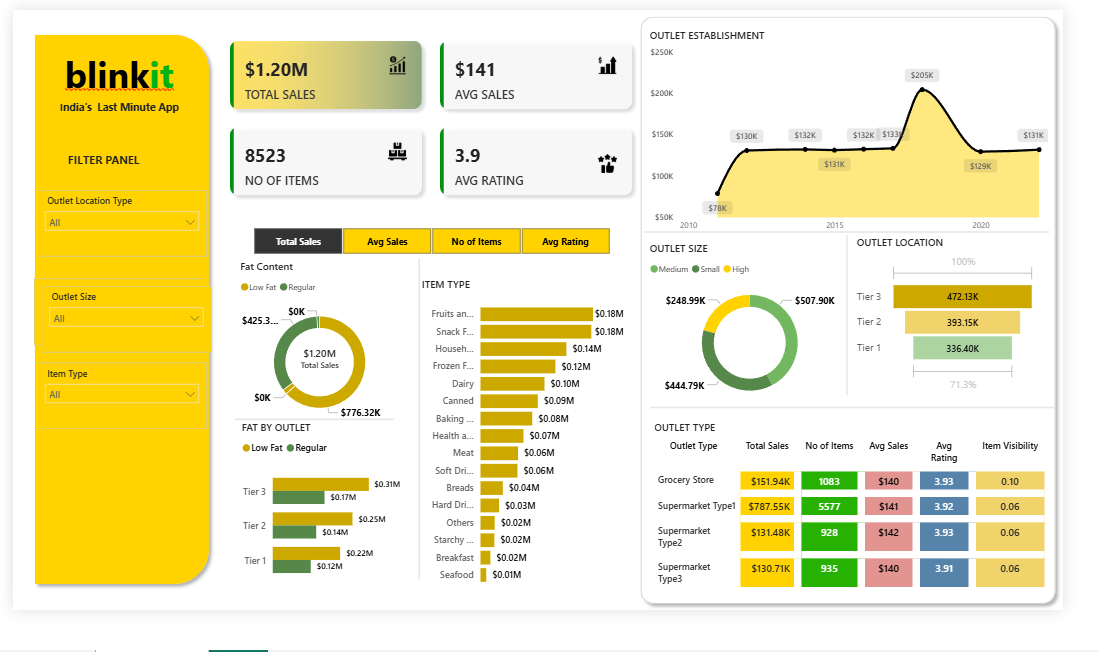

What the dashboard file says about the page in this screenshot:
{"tool":"powerbi","page":{"name":"Page 1","canvas":[1400,800],"ordinal":0},"visuals":[{"type":"shape","box":[20.7,24.8,250.1,750.3],"z":0},{"type":"textbox","box":[47.7,46,187.3,84.8],"z":1000},{"type":"textbox","box":[47.7,113.1,187.3,38.9],"z":2000},{"type":"cardVisual","fields":{"Data":["BlinkIT Grocery Data.Total Sales","BlinkIT Grocery Data.Avg Sales","BlinkIT Grocery Data.No of Items","BlinkIT Grocery Data.Avg Rating"]},"box":[272.2,24.7,570.9,240.4],"z":3000},{"type":"shape","box":[828.9,0,570.9,800.6],"z":4000},{"type":"donutChart","title":"Fat Content","fields":{"Y":["BlinkIT Grocery Data.Total Sales","BlinkIT Grocery Data.Avg Sales","Sum(BlinkIT Grocery Data.Rating)","BlinkIT Grocery Data.Avg Rating"],"Category":["BlinkIT Grocery Data.Item Fat Content"]},"box":[298.7,332.3,220.9,229.8],"z":5000},{"type":"slicer","fields":{"Values":["Metrics.Metrics"]},"box":[296.9,284.5,523.1,47.7],"z":6000},{"type":"cardVisual","fields":{"Data":["BlinkIT Grocery Data.Total Sales"]},"box":[349.9,429.5,118.4,68.9],"z":7000},{"type":"clusteredBarChart","title":"FAT BY OUTLET","fields":{"Y":["BlinkIT Grocery Data.Total Sales"],"Category":["BlinkIT Grocery Data.Outlet Location Type"],"Series":["BlinkIT Grocery Data.Item Fat Content"]},"box":[300.4,546.1,220.9,229.8],"z":8000},{"type":"shape","box":[296.9,514.3,212.1,63.6],"z":9000},{"type":"shape","box":[523.1,332.3,35.3,427.7],"z":10000},{"type":"barChart","title":"ITEM TYPE","fields":{"Y":["BlinkIT Grocery Data.Total Sales"],"Category":["BlinkIT Grocery Data.Item Type"]},"box":[540.8,355.2,279.2,420.6],"z":11000},{"type":"lineChart","title":"OUTLET ESTABLISHMENT","fields":{"Y":["BlinkIT Grocery Data.Total Sales"],"Category":["BlinkIT Grocery Data.Outlet Establishment Year"]},"box":[843,24.7,540.8,279.2],"z":12000},{"type":"shape","box":[842,264,540,64],"z":13000},{"type":"donutChart","title":"OUTLET SIZE","fields":{"Y":["BlinkIT Grocery Data.Total Sales"],"Category":["BlinkIT Grocery Data.Outlet Size"]},"box":[844,308,276,226],"z":14000},{"type":"shape","box":[1104,300,16,214],"z":15000},{"type":"funnel","title":"OUTLET LOCATION","fields":{"Y":["Sum(BlinkIT Grocery Data.Sales)"],"Category":["BlinkIT Grocery Data.Outlet Location Type"]},"box":[1120,300,248,214],"z":16000},{"type":"shape","box":[850,498,540,64],"z":17000},{"type":"pivotTable","title":"OUTLET TYPE","fields":{"Rows":["BlinkIT Grocery Data.Outlet Type"],"Values":["BlinkIT Grocery Data.Total Sales","BlinkIT Grocery Data.No of Items","BlinkIT Grocery Data.Avg Sales","BlinkIT Grocery Data.Avg Rating","Avg(BlinkIT Grocery Data.Item Visibility)"]},"box":[850,546,534,228],"z":18000},{"type":"slicer","fields":{"Values":["BlinkIT Grocery Data.Outlet Location Type"]},"box":[31.7,240,226.7,88.3],"z":19000},{"type":"slicer","fields":{"Values":["BlinkIT Grocery Data.Outlet Size"]},"box":[28.3,358.3,226.7,88.3],"z":20000},{"type":"slicer","fields":{"Values":["BlinkIT Grocery Data.Outlet Size"]},"box":[38.3,368.3,226.7,88.3],"z":21000},{"type":"slicer","fields":{"Values":["BlinkIT Grocery Data.Item Type"]},"box":[31.7,470,226.7,88.3],"z":22000},{"type":"textbox","box":[66,184,110,32],"z":23000}]}

Visuals, with their boxes on the page's 1400x800 design canvas (x1, y1, x2, y2). These are canvas units, not pixel positions in the 1098x652 screenshot, which may show the page scaled, cropped or inside an application window:
shape: box(21, 25, 271, 775)
textbox: box(48, 46, 235, 131)
textbox: box(48, 113, 235, 152)
cardVisual - BlinkIT Grocery Data.Total Sales x BlinkIT Grocery Data.Avg Sales: box(272, 25, 843, 265)
shape: box(829, 0, 1400, 801)
"Fat Content" donutChart: box(299, 332, 520, 562)
slicer - Metrics.Metrics: box(297, 284, 820, 332)
cardVisual - BlinkIT Grocery Data.Total Sales: box(350, 430, 468, 498)
"FAT BY OUTLET" clusteredBarChart: box(300, 546, 521, 776)
shape: box(297, 514, 509, 578)
shape: box(523, 332, 558, 760)
"ITEM TYPE" barChart: box(541, 355, 820, 776)
"OUTLET ESTABLISHMENT" lineChart: box(843, 25, 1384, 304)
shape: box(842, 264, 1382, 328)
"OUTLET SIZE" donutChart: box(844, 308, 1120, 534)
shape: box(1104, 300, 1120, 514)
"OUTLET LOCATION" funnel: box(1120, 300, 1368, 514)
shape: box(850, 498, 1390, 562)
"OUTLET TYPE" pivotTable: box(850, 546, 1384, 774)
slicer - BlinkIT Grocery Data.Outlet Location Type: box(32, 240, 258, 328)
slicer - BlinkIT Grocery Data.Outlet Size: box(28, 358, 255, 447)
slicer - BlinkIT Grocery Data.Outlet Size: box(38, 368, 265, 457)
slicer - BlinkIT Grocery Data.Item Type: box(32, 470, 258, 558)
textbox: box(66, 184, 176, 216)
